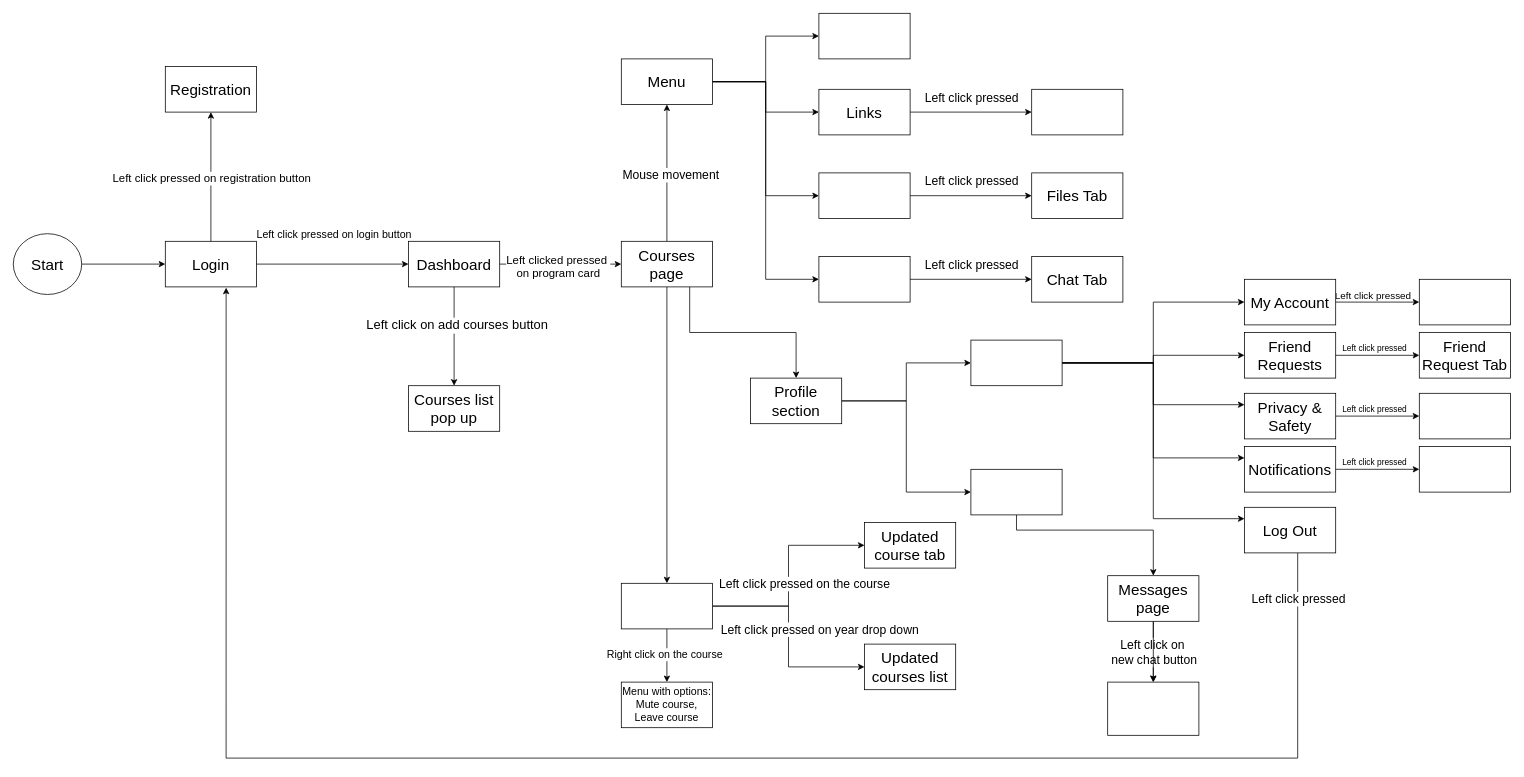
This 1524x777 diagram has some shape labels left out. The shapes that lost their labels are listed below. From the top down, each one's centre as x and y in pixels, then its label:
point (864, 36): Search
point (1077, 112): Links Tab
point (864, 195): Files
point (864, 279): Chat
point (1464, 302): My Account Tab
point (1016, 362): Profile page
point (1464, 416): Privacy & Safety Tab
point (1464, 469): Notifications Tab
point (1016, 492): Messages
point (666, 606): Courses list
point (1153, 708): Available people list - Window
